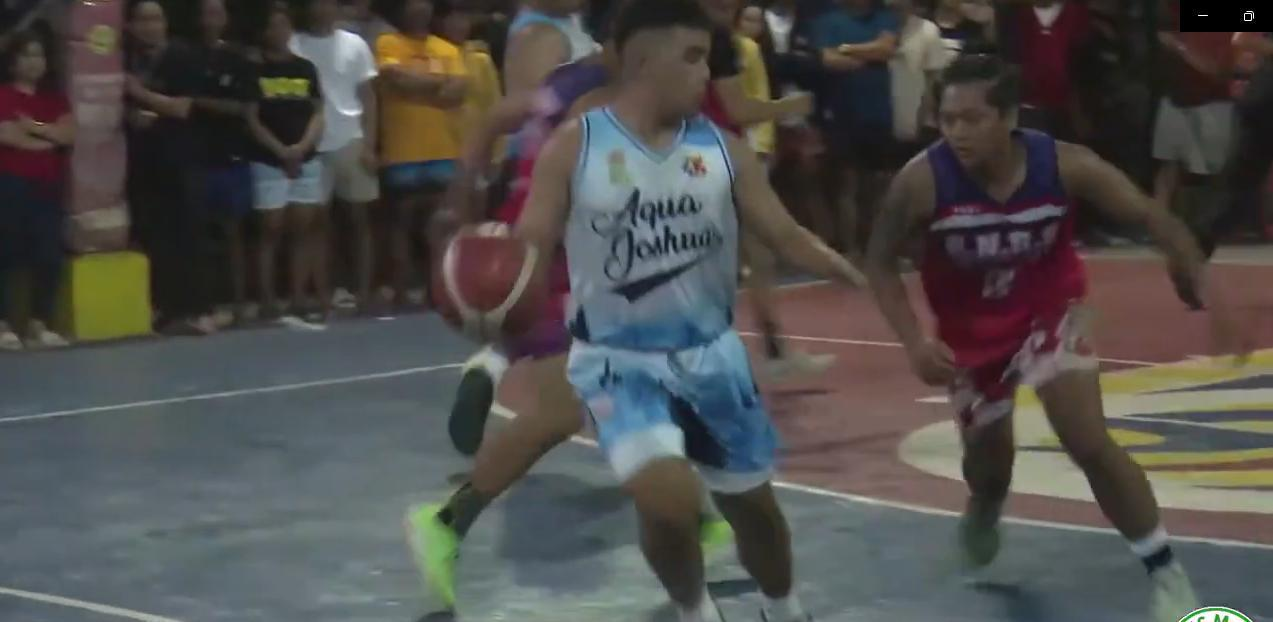ball: (422, 218, 554, 348)
human: (418, 0, 851, 622), (848, 33, 1231, 622)
